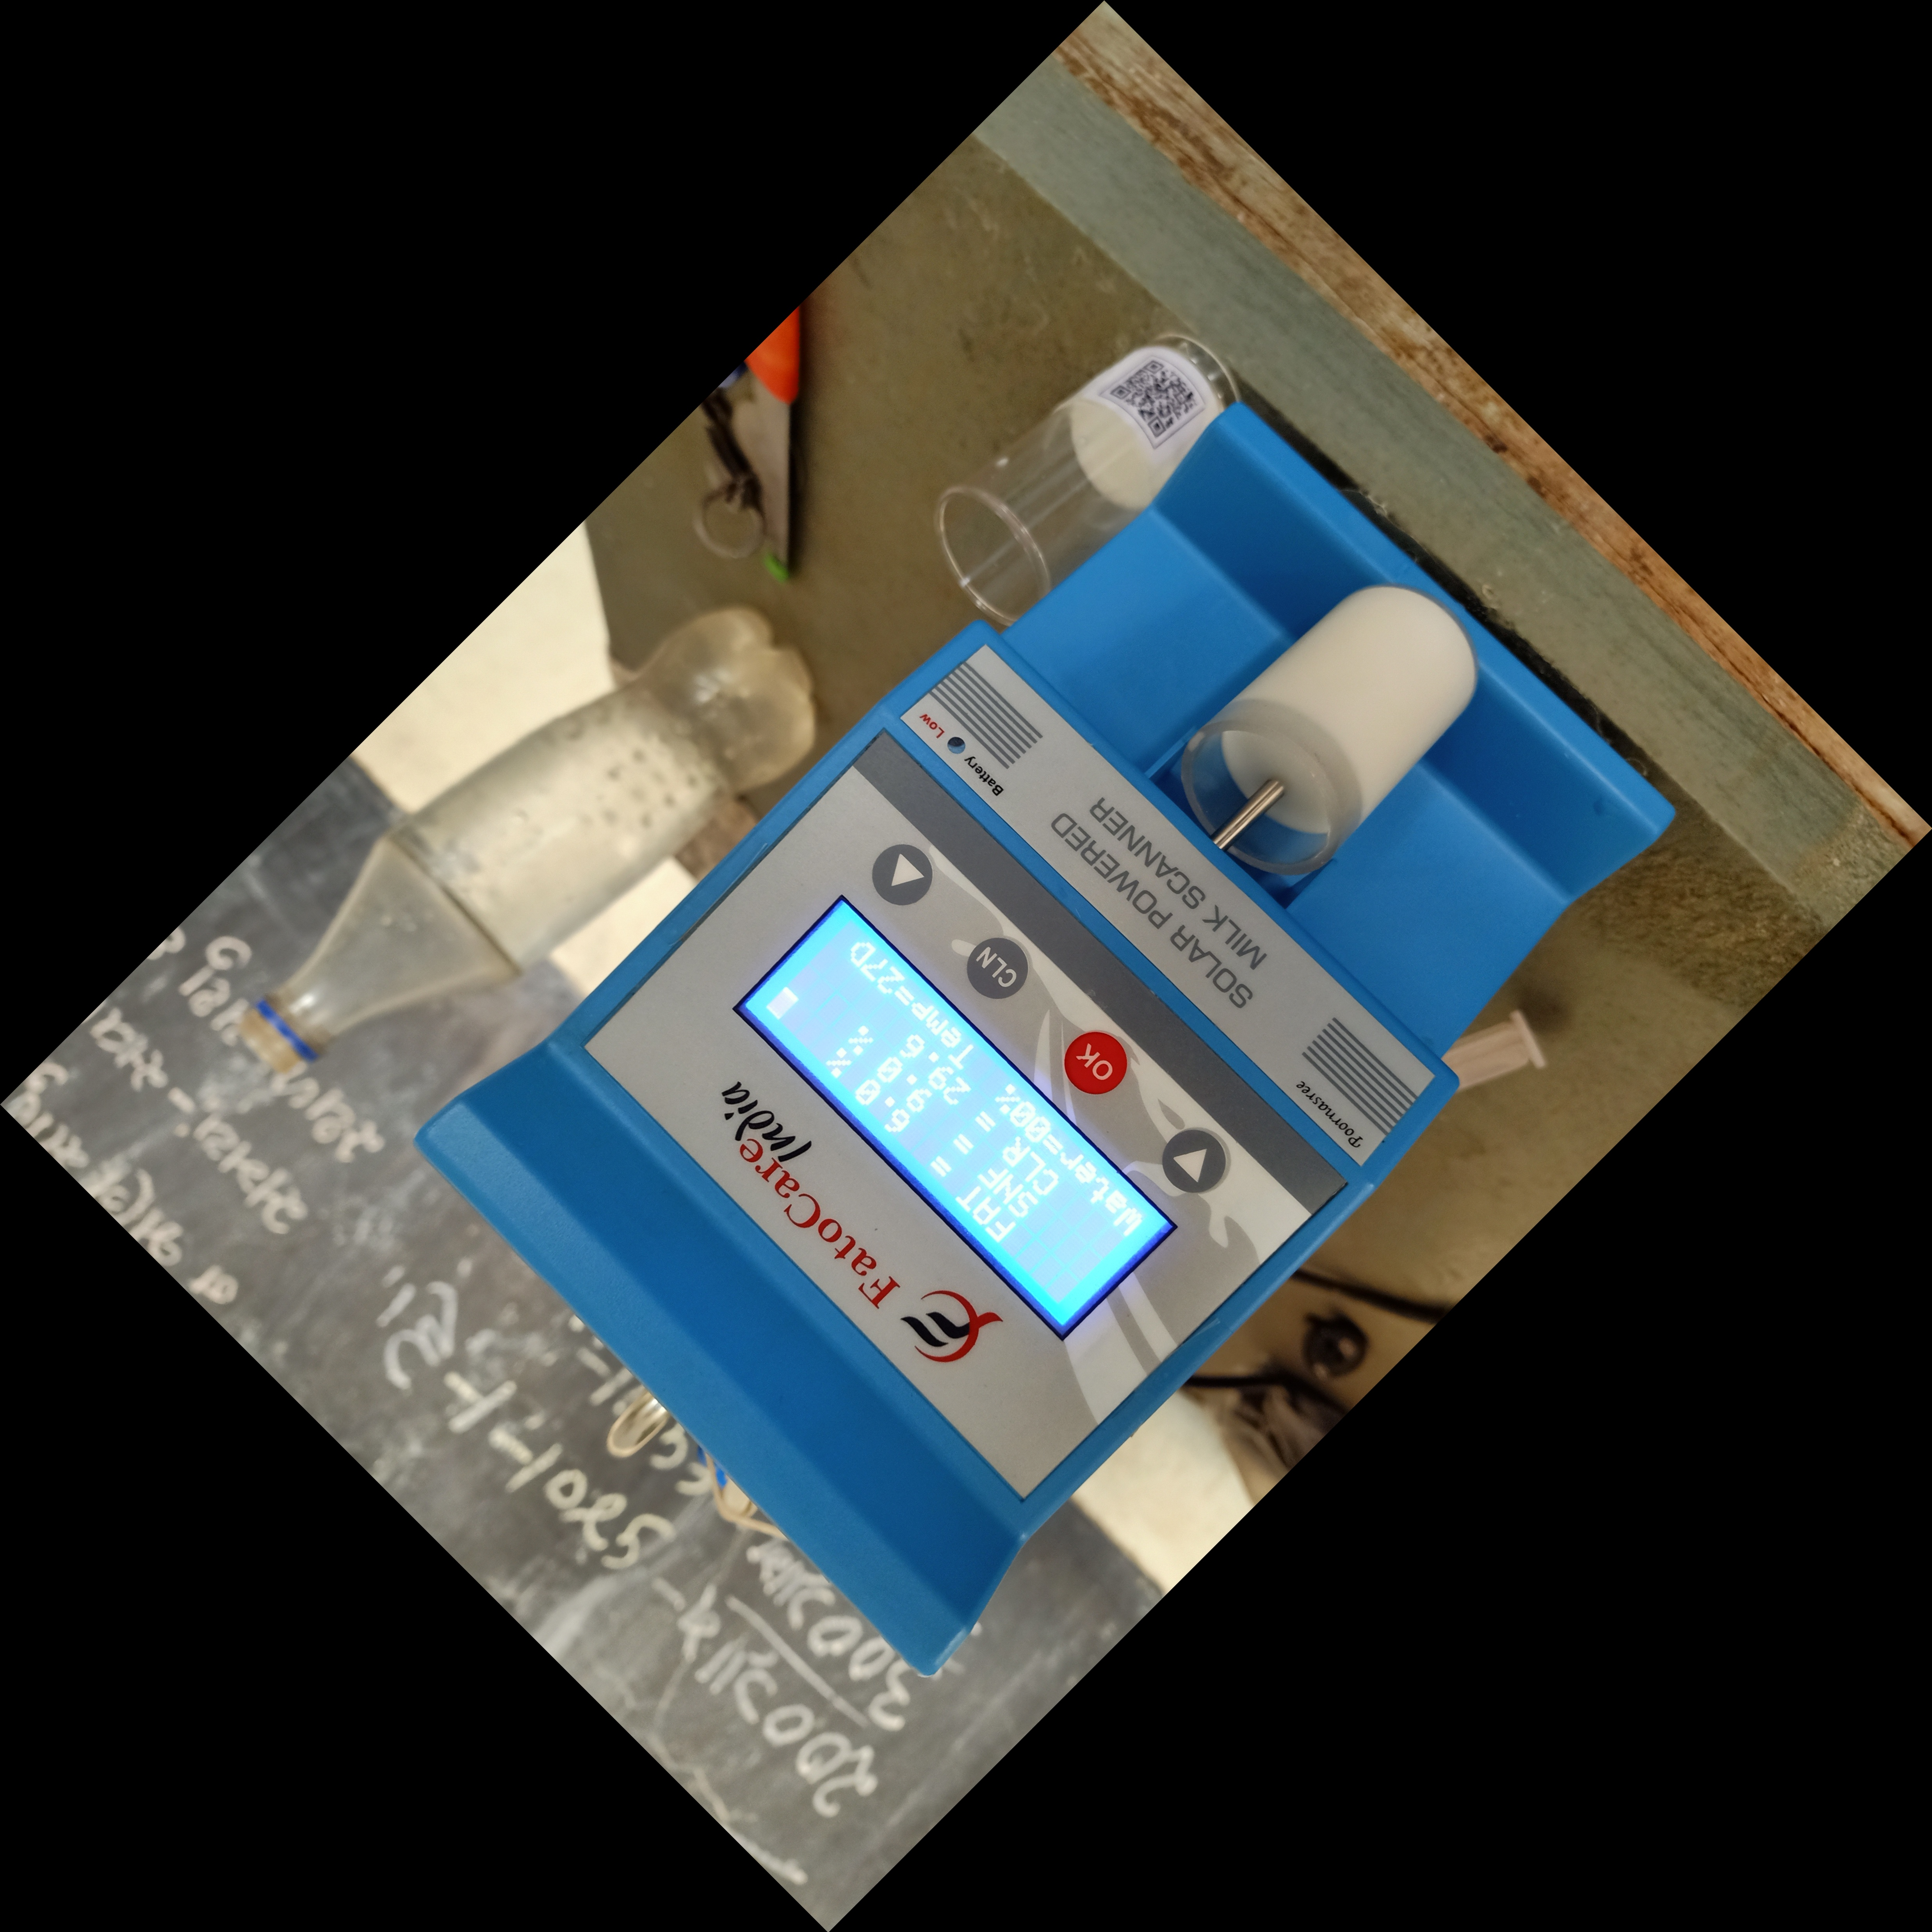lcd: (718, 876, 1198, 1341)
qr: (1088, 329, 1219, 453)
